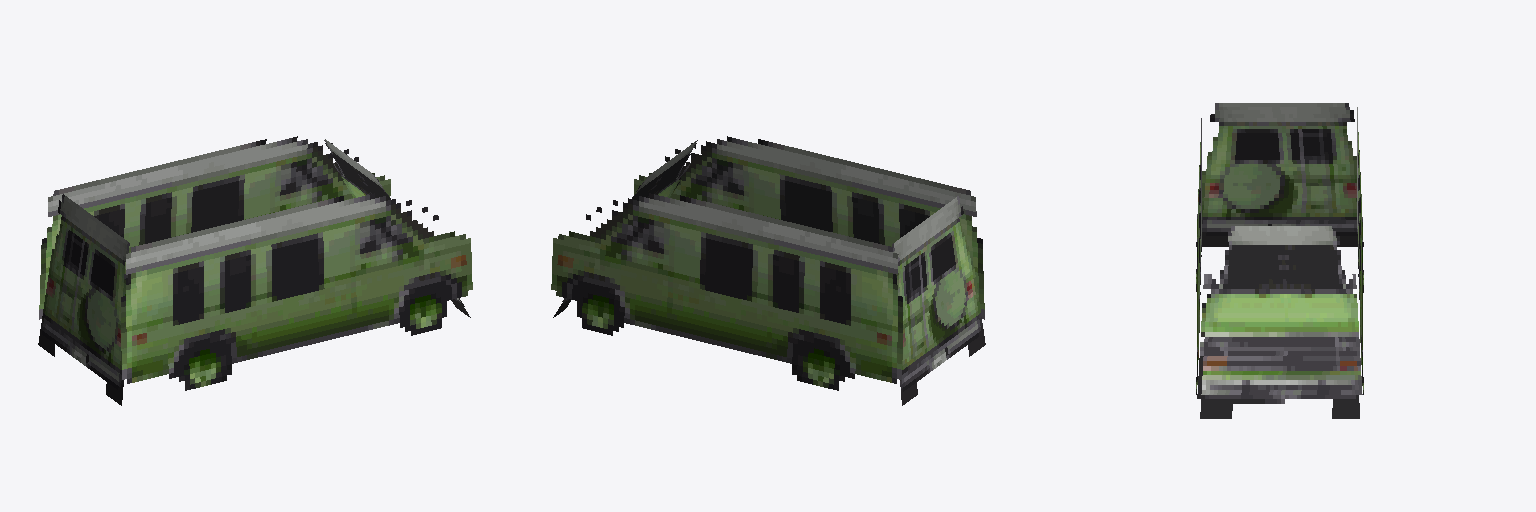
3 views of the same model, side by side, from view 1: azimuth 30°, elevation 25°; view 2: azimuth 150°, elevation 25°; view 3: azimuth 270°, elevation 25° (orthographic).
Bounding box in the file's own units: 654 × 273 × 270.
1 materials, 1 textured.